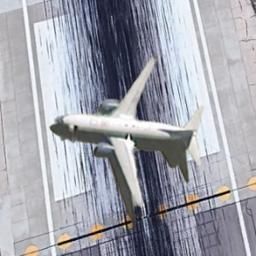Airplane: (48, 55, 203, 225)
